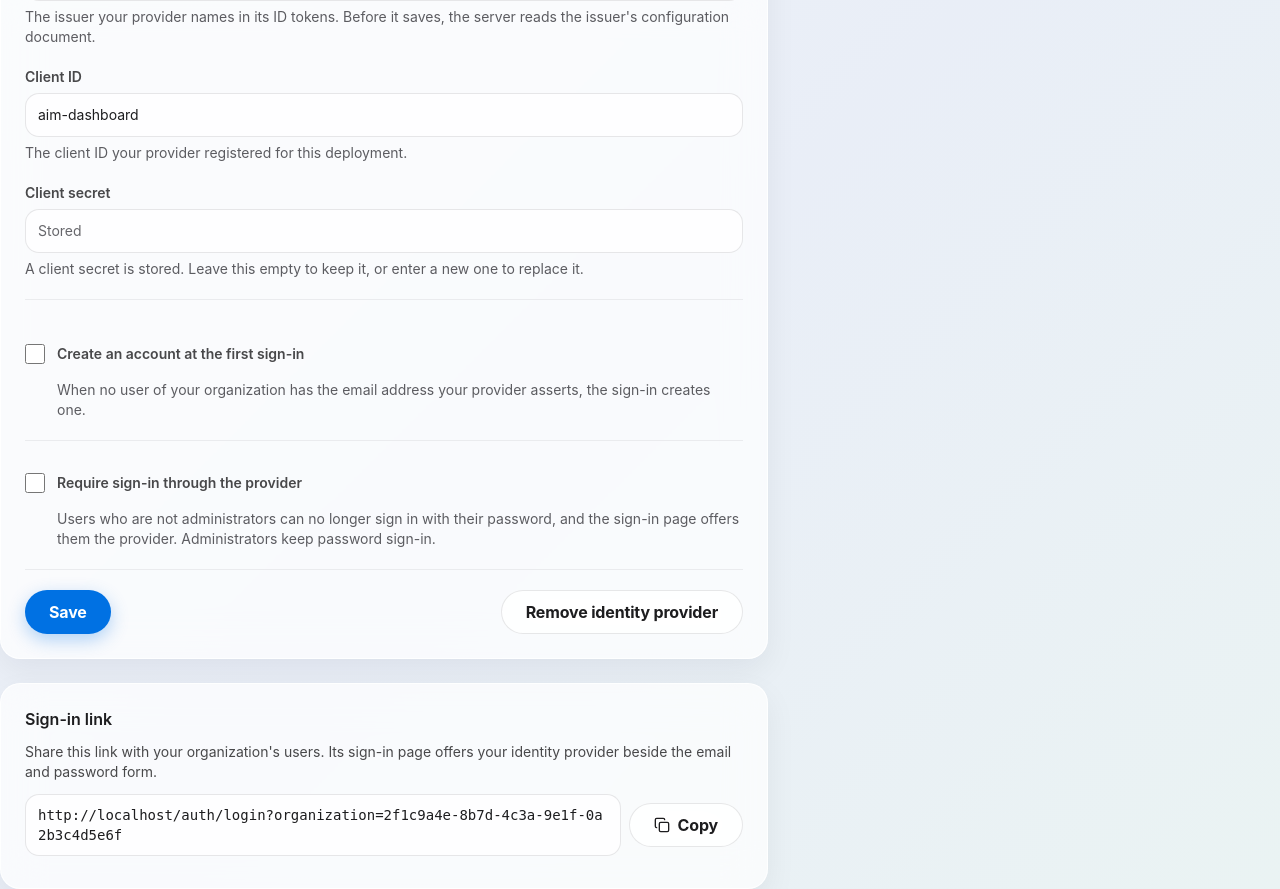
it: the identity provider page › describes a failure that is not a refusal of a setting from its status alone
(page scrolled)
Click the button "Save": (68, 612) [25,590,111,634]
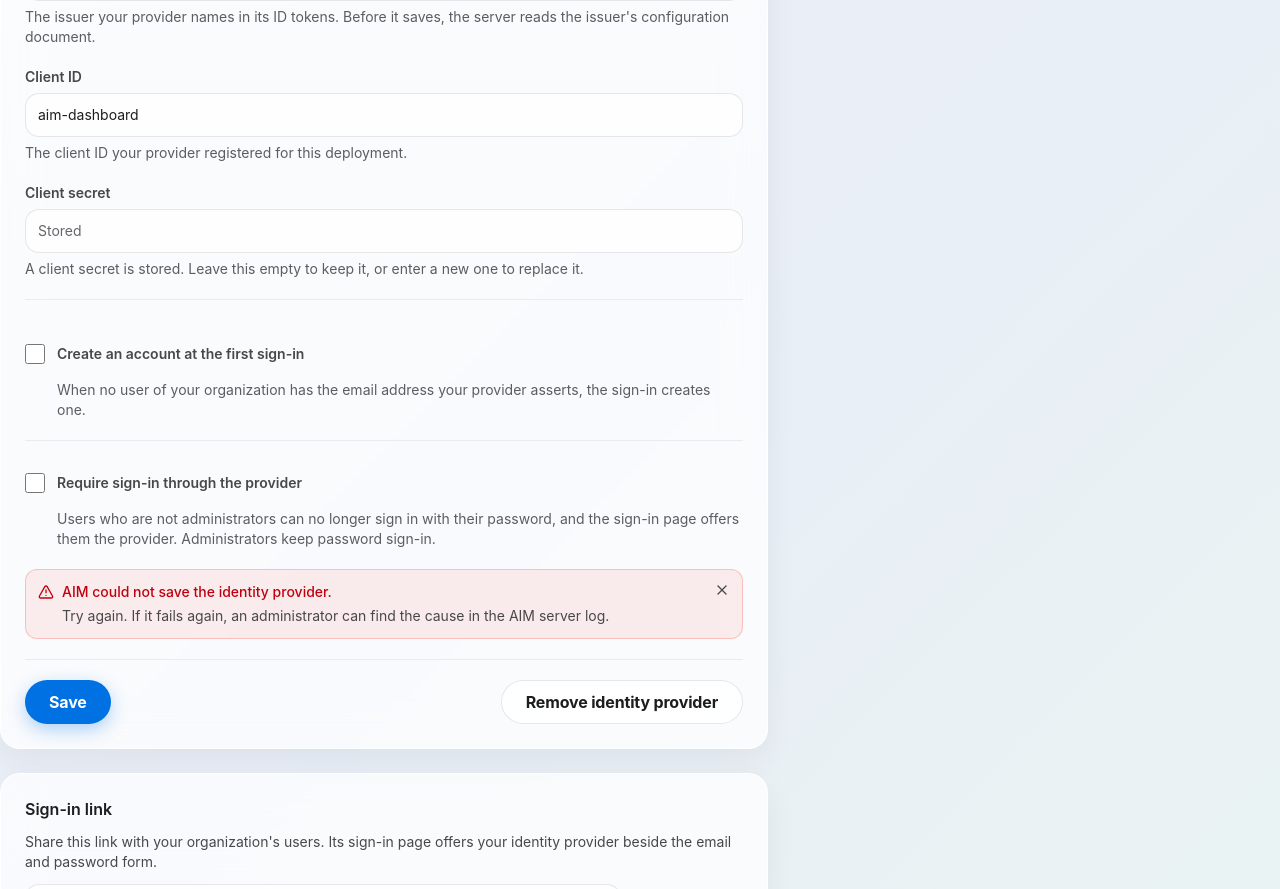
Check: the message shows "AIM could not save the identity provider.", box [62,583,332,600]
